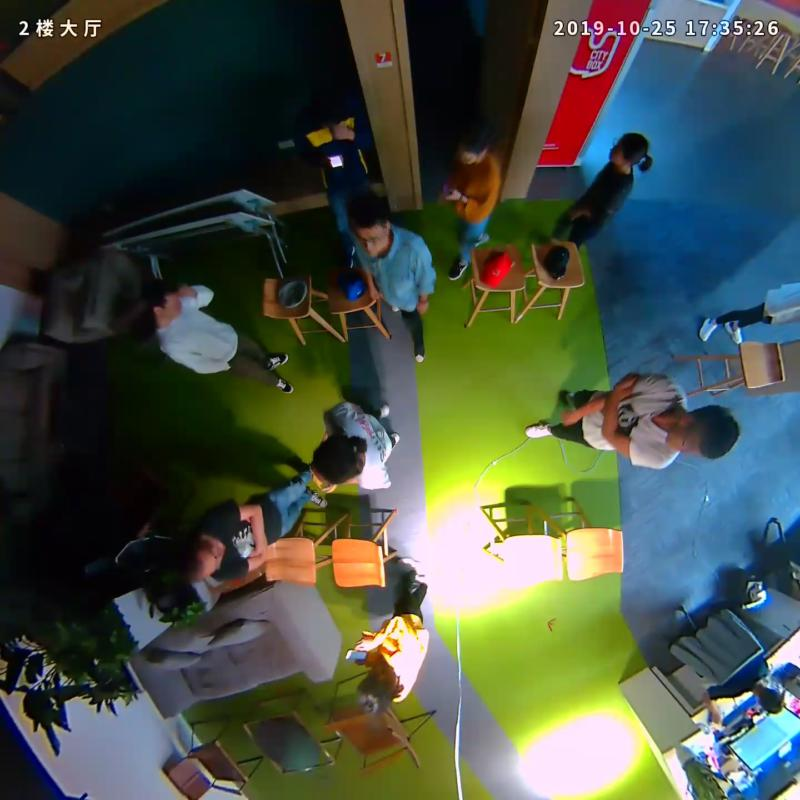head: (666, 406, 739, 461), (348, 192, 391, 259), (313, 433, 365, 486), (178, 534, 226, 582), (358, 670, 400, 716), (145, 277, 184, 320), (448, 125, 486, 166), (610, 132, 649, 171)
